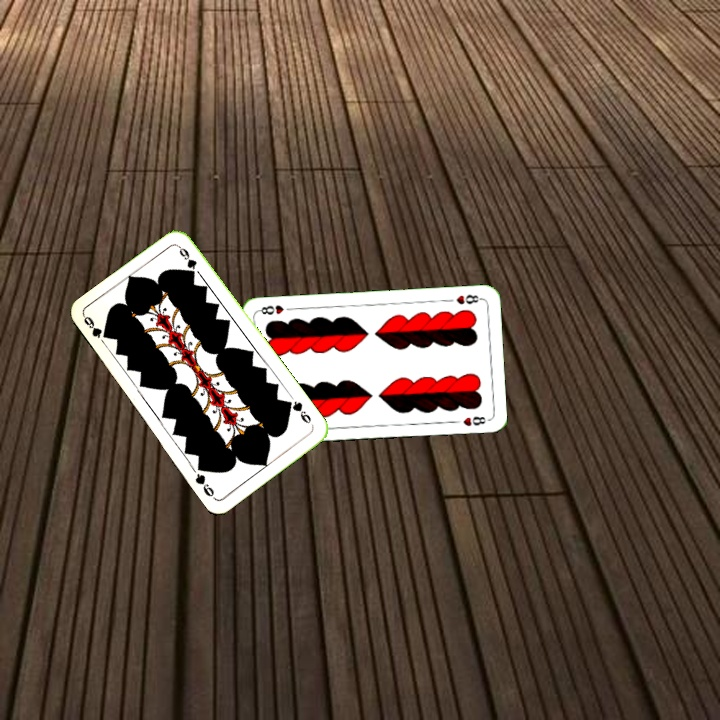G9: (283, 397, 314, 426), (80, 312, 104, 341)
H8: (452, 290, 484, 307)
